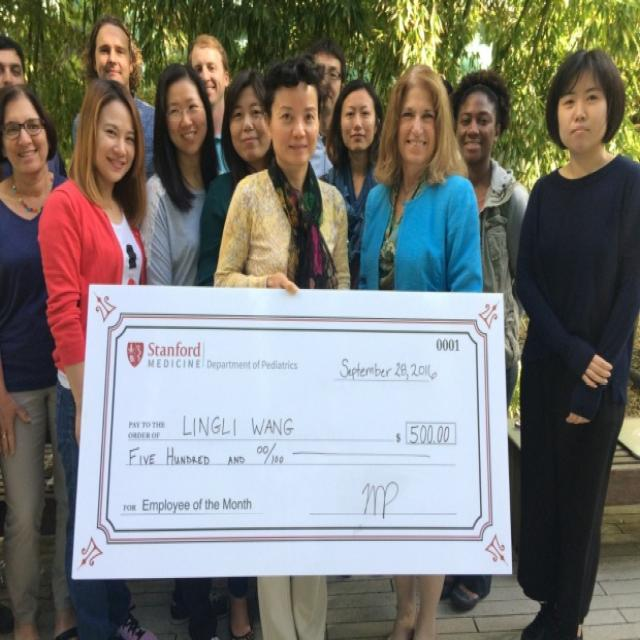body: (207, 53, 354, 640), (512, 39, 639, 638), (357, 63, 484, 640), (32, 73, 157, 639), (434, 67, 532, 614), (0, 88, 84, 640), (193, 69, 273, 640), (135, 61, 224, 286), (69, 15, 159, 185), (319, 77, 385, 292), (0, 33, 68, 186), (187, 34, 230, 174), (308, 42, 349, 184)
